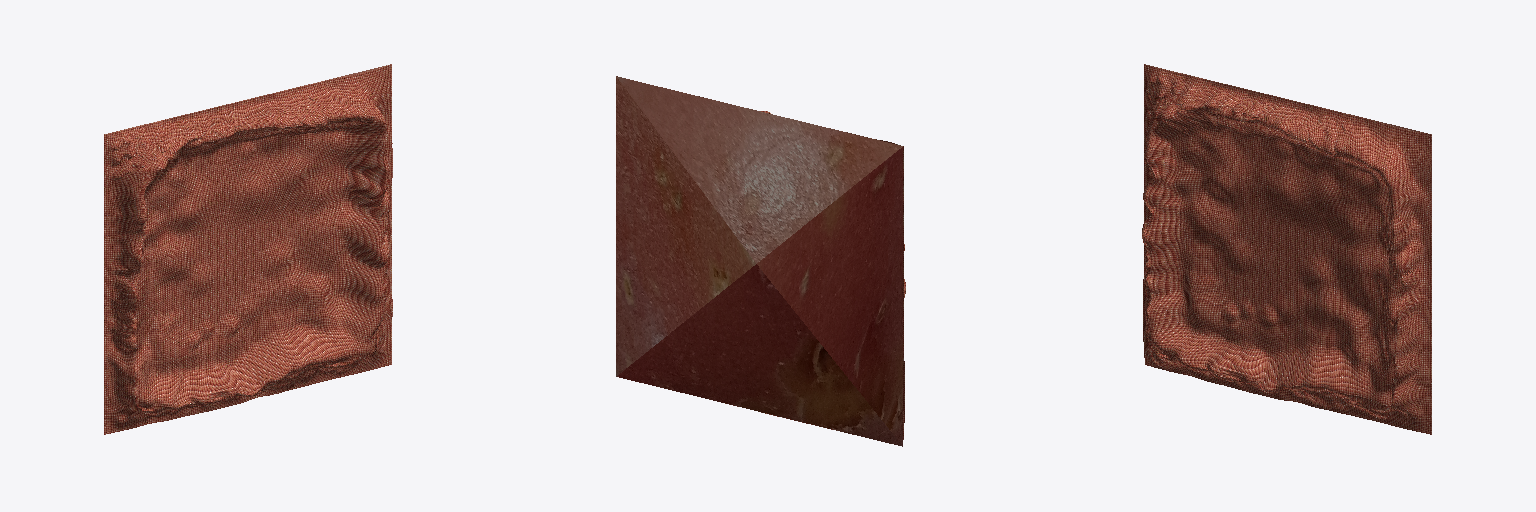
The picture shows the model from 3 angles: view 1: azimuth 30°, elevation 25°; view 2: azimuth 150°, elevation 25°; view 3: azimuth 330°, elevation 25°; orthographic projection.
Visible parts, largest first — view 1: Ground.003.010, Ground.015.014, Ground.011.015, Ground.009.001, Ground.004.007, Ground.004.005, Ground.006.002, Ground.011.002, Ground.002.013, Ground.013.003, Ground.011.009, Ground.004.010 (+22 smaller); view 2: Bottom; view 3: Ground.009.001, Ground.001.012, Ground.010.011, Ground.005.006, Ground.010.012, Ground.006.008, Ground.005.012, Ground.003.011, Ground.005.003, Ground.009.006, Ground.004.001, Ground.006.004 (+13 smaller).
Part boxes in pixels (bbox=[...]): Ground.003.010: bbox=[248, 342, 279, 375]; Ground.015.014: bbox=[124, 148, 156, 177]; Ground.011.015: bbox=[341, 266, 376, 291]; Ground.009.001: bbox=[266, 90, 300, 123]; Ground.004.007: bbox=[104, 264, 135, 294]; Ground.004.005: bbox=[104, 244, 138, 269]; Ground.006.002: bbox=[230, 363, 260, 396]; Ground.011.002: bbox=[342, 229, 377, 252]; Ground.002.013: bbox=[339, 188, 380, 208]; Ground.013.003: bbox=[345, 304, 373, 331]; Ground.011.009: bbox=[341, 247, 380, 270]; Ground.004.010: bbox=[104, 224, 137, 253]; Bottom: bbox=[616, 76, 902, 446]; Ground.009.001: bbox=[1290, 104, 1325, 137]; Ground.001.012: bbox=[1162, 322, 1194, 350]; Ground.010.011: bbox=[1412, 131, 1431, 170]; Ground.005.006: bbox=[1146, 246, 1180, 269]; Ground.010.012: bbox=[1381, 150, 1413, 178]; Ground.006.008: bbox=[1236, 356, 1269, 384]; Ground.005.012: bbox=[1148, 282, 1182, 306]; Ground.003.011: bbox=[1310, 354, 1341, 384]; Ground.005.003: bbox=[1146, 265, 1182, 287]; Ground.009.006: bbox=[1274, 99, 1305, 131]; Ground.004.001: bbox=[1144, 188, 1178, 210]; Ground.006.004: bbox=[1214, 350, 1242, 380].
Size of the model in its own units: 1006 by 1005 by 138.
Materials: 1 (1 with a texture image).